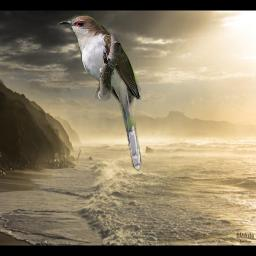Cuckoo: (57, 14, 142, 171)
